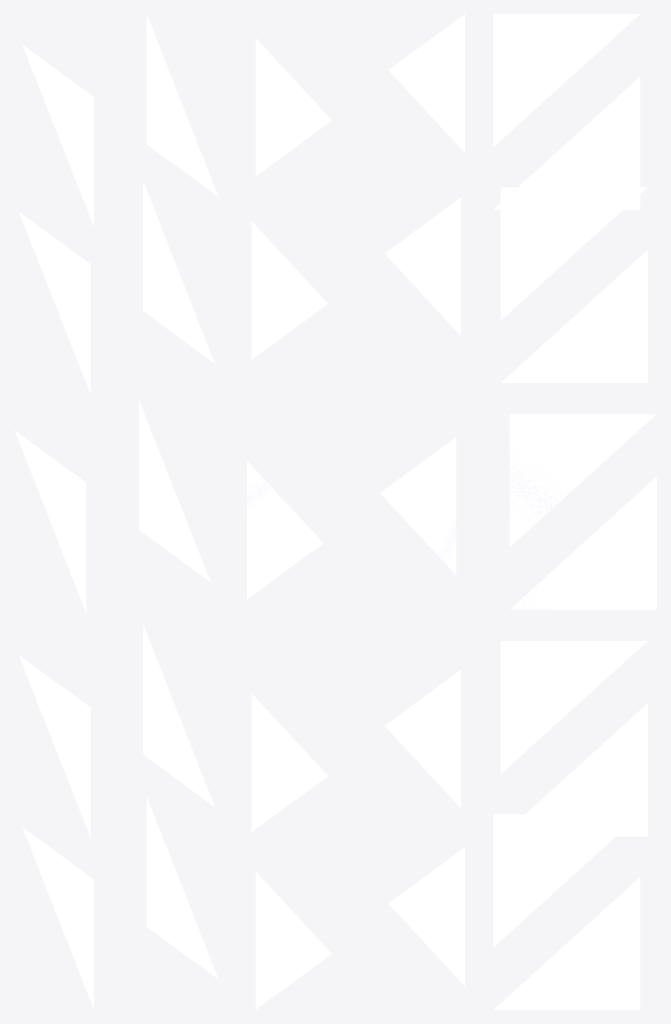
The model's file is Tile_Straight.glb.
3 views of the same model, side by side, from view 1: azimuth 30°, elevation 25°; view 2: azimuth 150°, elevation 25°; view 3: azimuth 270°, elevation 25° (orthographic). The views are drawn at different scales.
Visible parts, largest first — view 1: Sidewalk_L, Sidewalk_R, Curb_L, Road, Curb_R; view 2: Road, Curb_R, Sidewalk_R, Curb_L, Sidewalk_L; view 3: Curb_L, Road, Sidewalk_R, Sidewalk_L, Curb_R.
Boxes of the visible parts, x1=… form: Sidewalk_L: x1=22, y1=797, x2=218, y2=1008; Sidewalk_R: x1=22, y1=14, x2=218, y2=226; Curb_L: x1=19, y1=625, x2=214, y2=837; Road: x1=14, y1=400, x2=210, y2=612; Curb_R: x1=19, y1=182, x2=214, y2=393; Road: x1=247, y1=437, x2=456, y2=599; Curb_R: x1=251, y1=197, x2=460, y2=359; Sidewalk_R: x1=255, y1=14, x2=464, y2=175; Curb_L: x1=251, y1=670, x2=460, y2=831; Sidewalk_L: x1=255, y1=847, x2=464, y2=1009; Curb_L: x1=500, y1=641, x2=647, y2=836; Road: x1=509, y1=414, x2=656, y2=609; Sidewalk_R: x1=493, y1=14, x2=640, y2=209; Sidewalk_L: x1=493, y1=814, x2=640, y2=1009; Curb_R: x1=500, y1=187, x2=647, y2=382.
Size of the model in its own units: 1 by 7 by 1.11.
2 materials, 2 textured.
